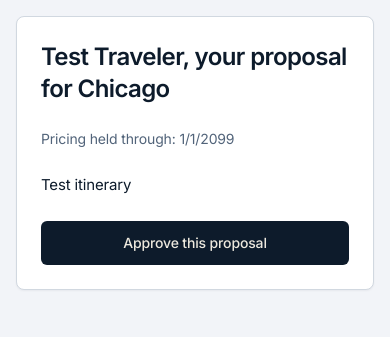
individual proposal approval › does not treat server result expired as success
This screenshot has width=390, height=337.
Click the button at (195, 243), box top-left (41, 221), bottom-right (349, 265)
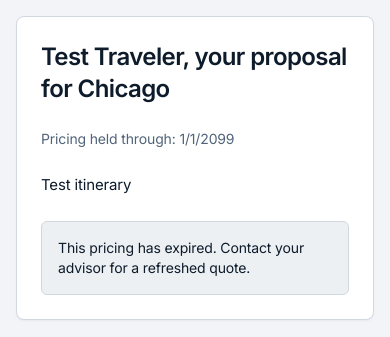
Now the button "Approve this proposal" is gone
